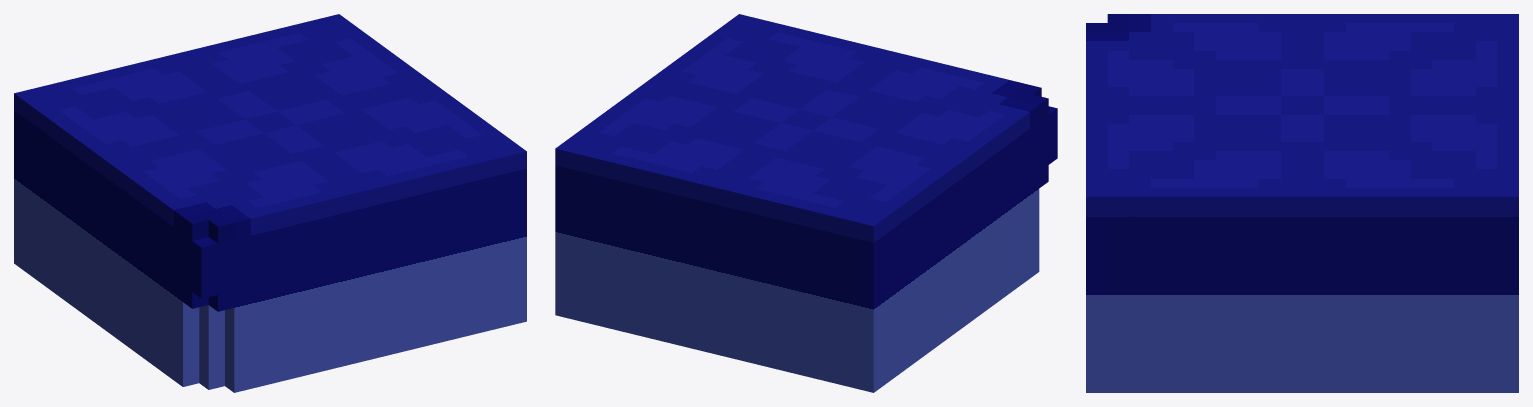
The model's file is half_top_corner2.glb.
The picture shows the model from 3 angles, left to right: view 1: azimuth 30°, elevation 25°; view 2: azimuth 150°, elevation 25°; view 3: azimuth 270°, elevation 25°; orthographic projection. The views are drawn at different scales.
Visible parts, largest first — view 1: half_top_corner; view 2: half_top_corner; view 3: half_top_corner.
Part boxes in pixels (bbox=[...]): half_top_corner: bbox=[14, 14, 526, 392]; half_top_corner: bbox=[555, 14, 1057, 392]; half_top_corner: bbox=[1086, 14, 1518, 392].
Bounding box in the file's own units: 2 × 1 × 2.
1 material, 1 textured.
